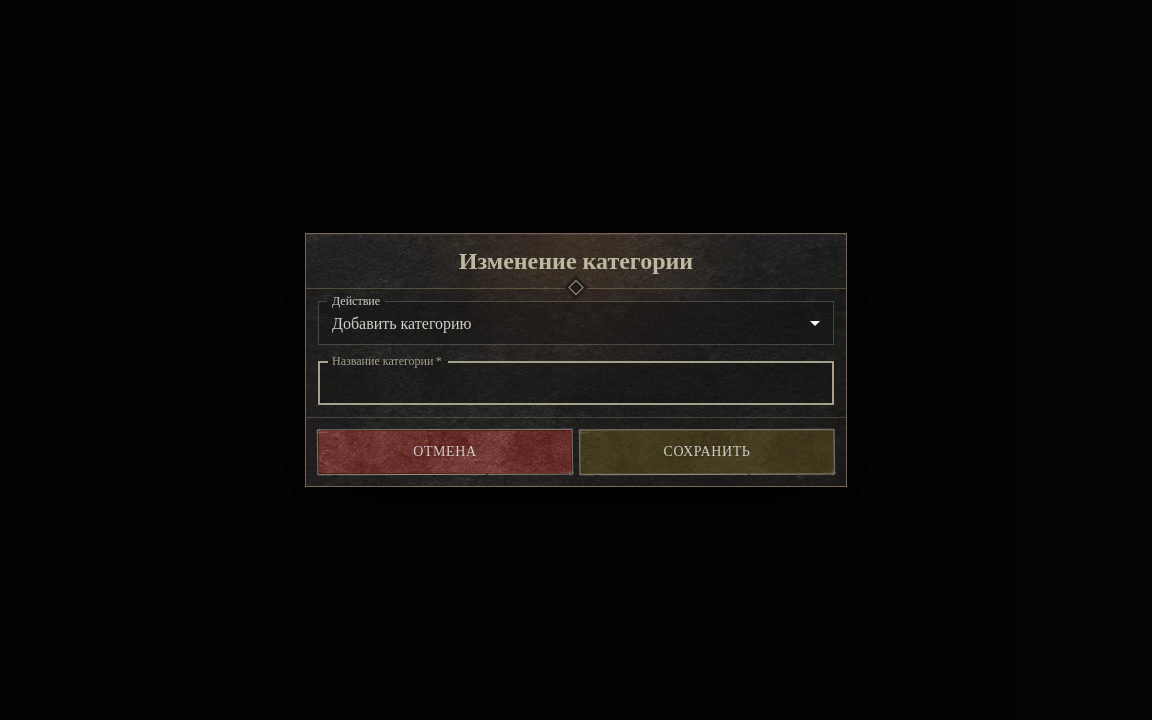
validates blank category names, submits trimmed names and retains server failures
Step 1. Click the button "Сохранить" → x=707, y=452, box top-left (580, 430), bottom-right (834, 474)
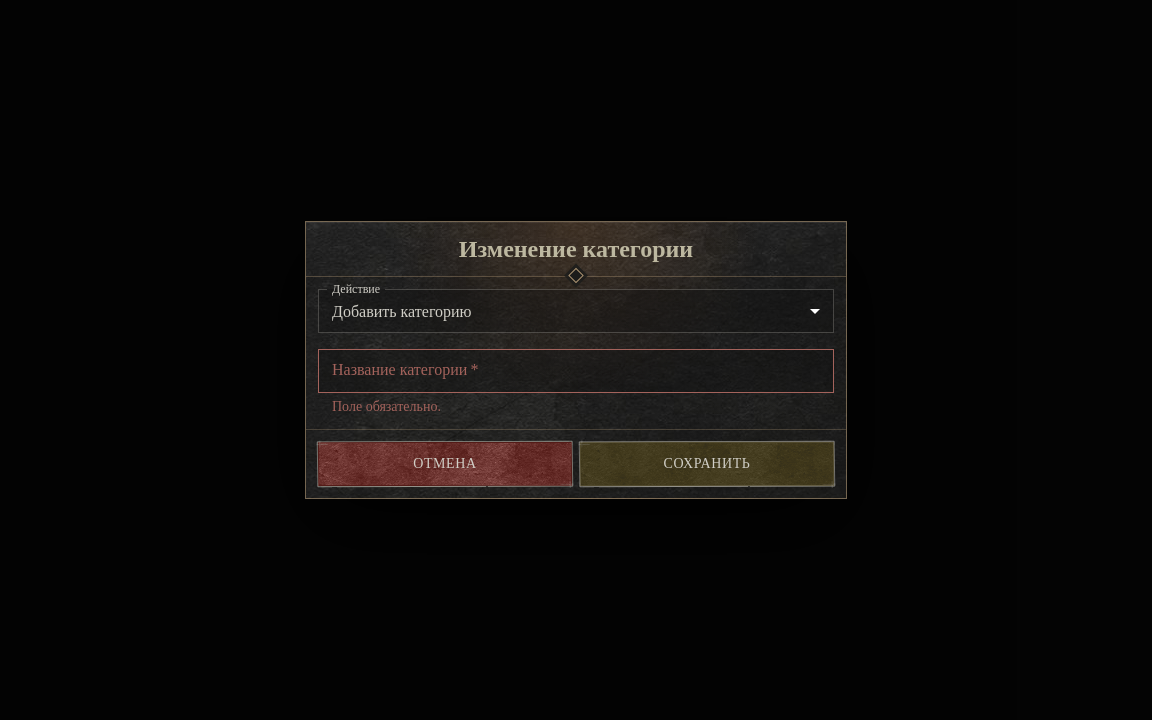
Now the field is marked as invalid
Step 2. Type "  Наука  " into the field → x=576, y=371, box top-left (318, 351), bottom-right (834, 391)
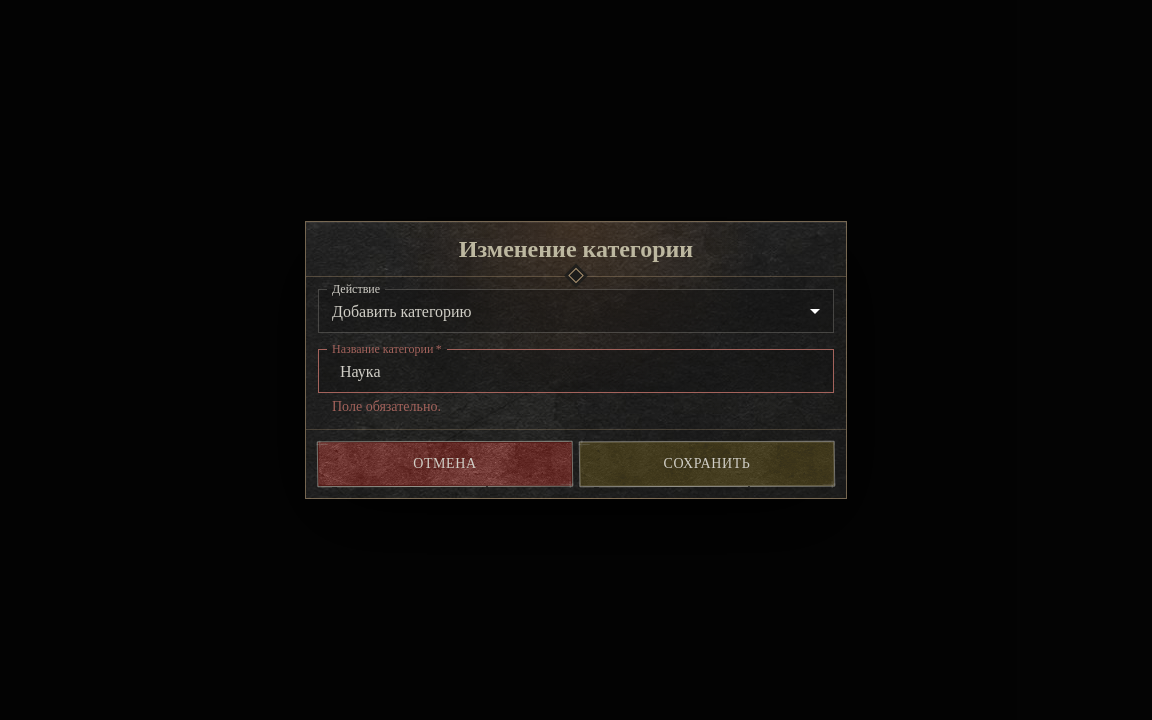
Step 3. Submit the form with id "catalog-question-category-form", box top-left (318, 289), bottom-right (834, 417)
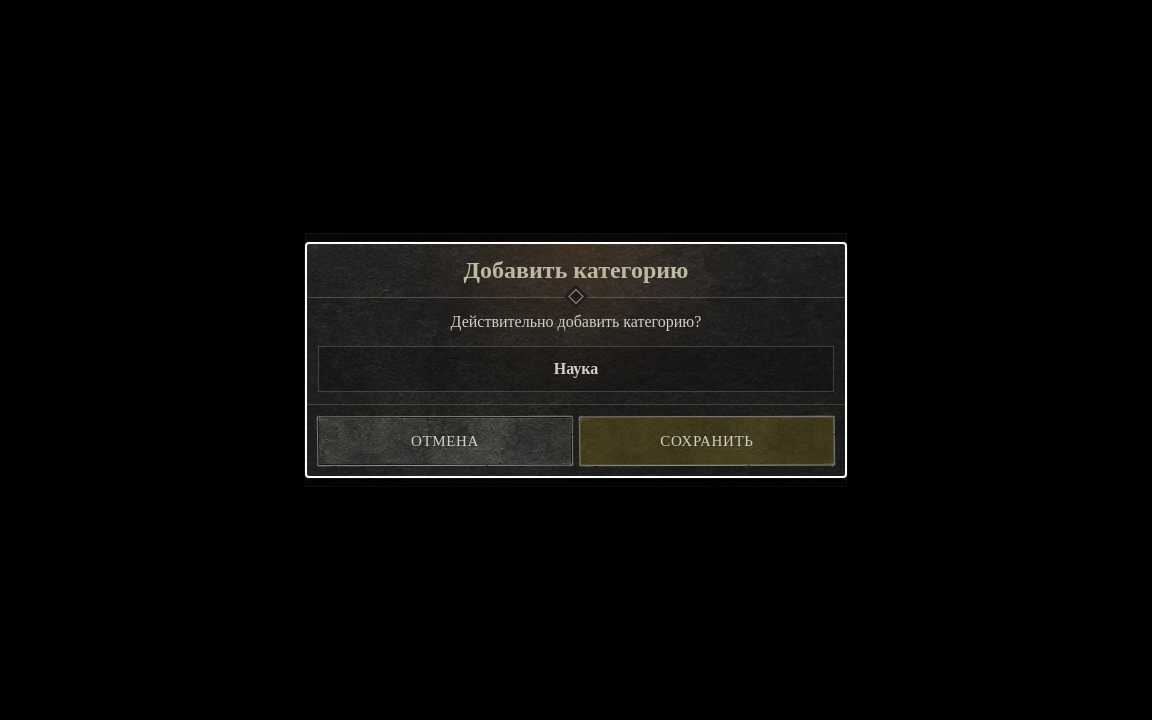
Now the text "Действительно добавить категорию?" is shown, box top-left (451, 313), bottom-right (701, 330)
Now the text "Наука" is shown, box top-left (554, 360), bottom-right (598, 377)
Step 4. Click the button "Отмена" → x=445, y=441, box top-left (318, 417), bottom-right (572, 465)
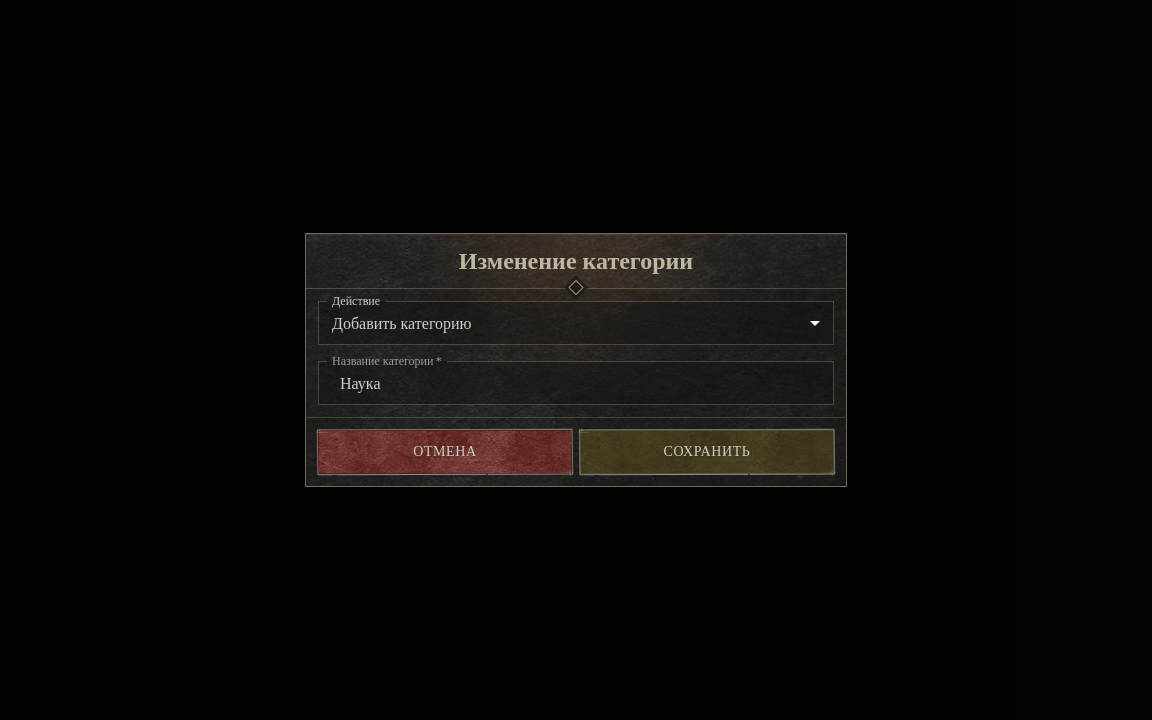
Now the text "Действительно добавить категорию?" is gone
Step 5. Submit the form with id "catalog-question-category-form", box top-left (318, 301), bottom-right (834, 405)
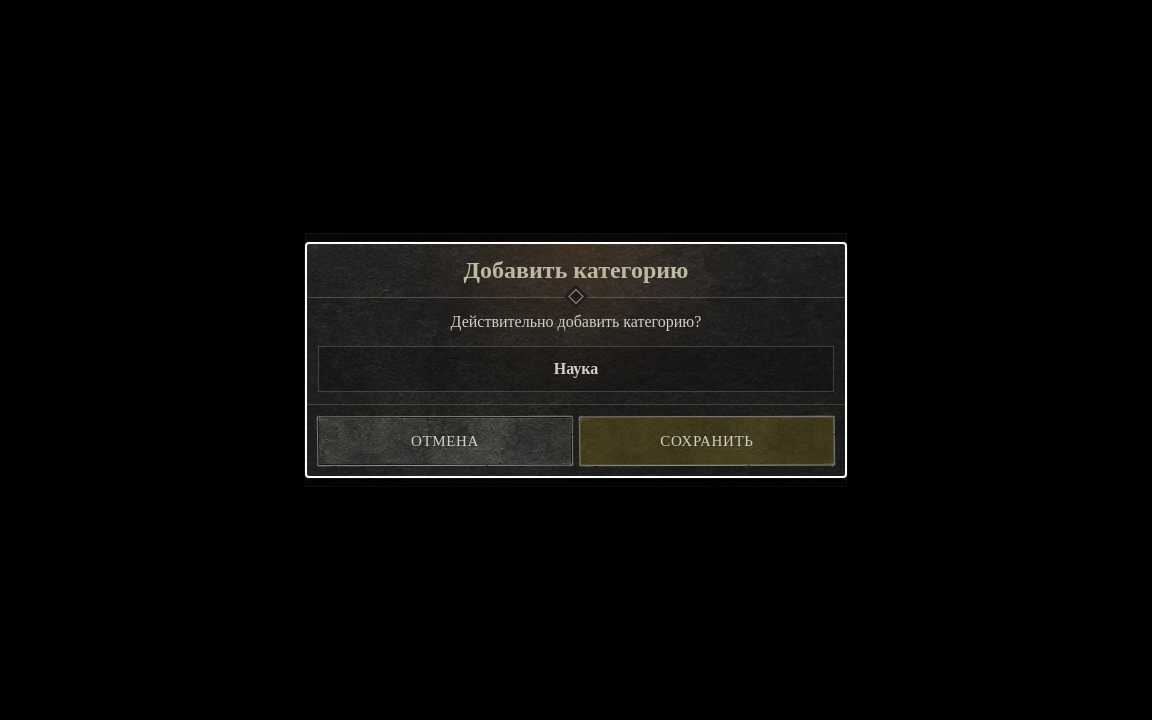
Now the text "Действительно добавить категорию?" is shown, box top-left (451, 313), bottom-right (701, 330)
Now the text "Наука" is shown, box top-left (554, 360), bottom-right (598, 377)
Step 6. Click the button "Сохранить" → x=707, y=441, box top-left (580, 417), bottom-right (834, 465)
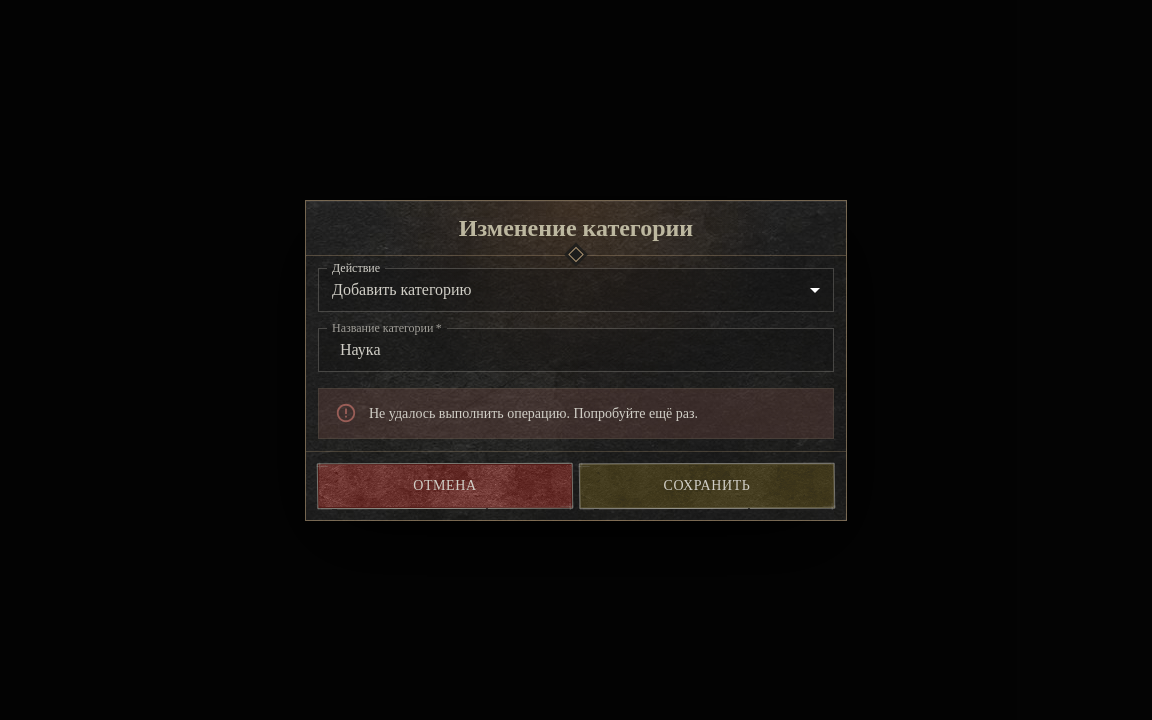
Now the message "Не удалось выполнить операцию. Попробуйте ещё раз." is shown, box top-left (318, 388), bottom-right (834, 438)
